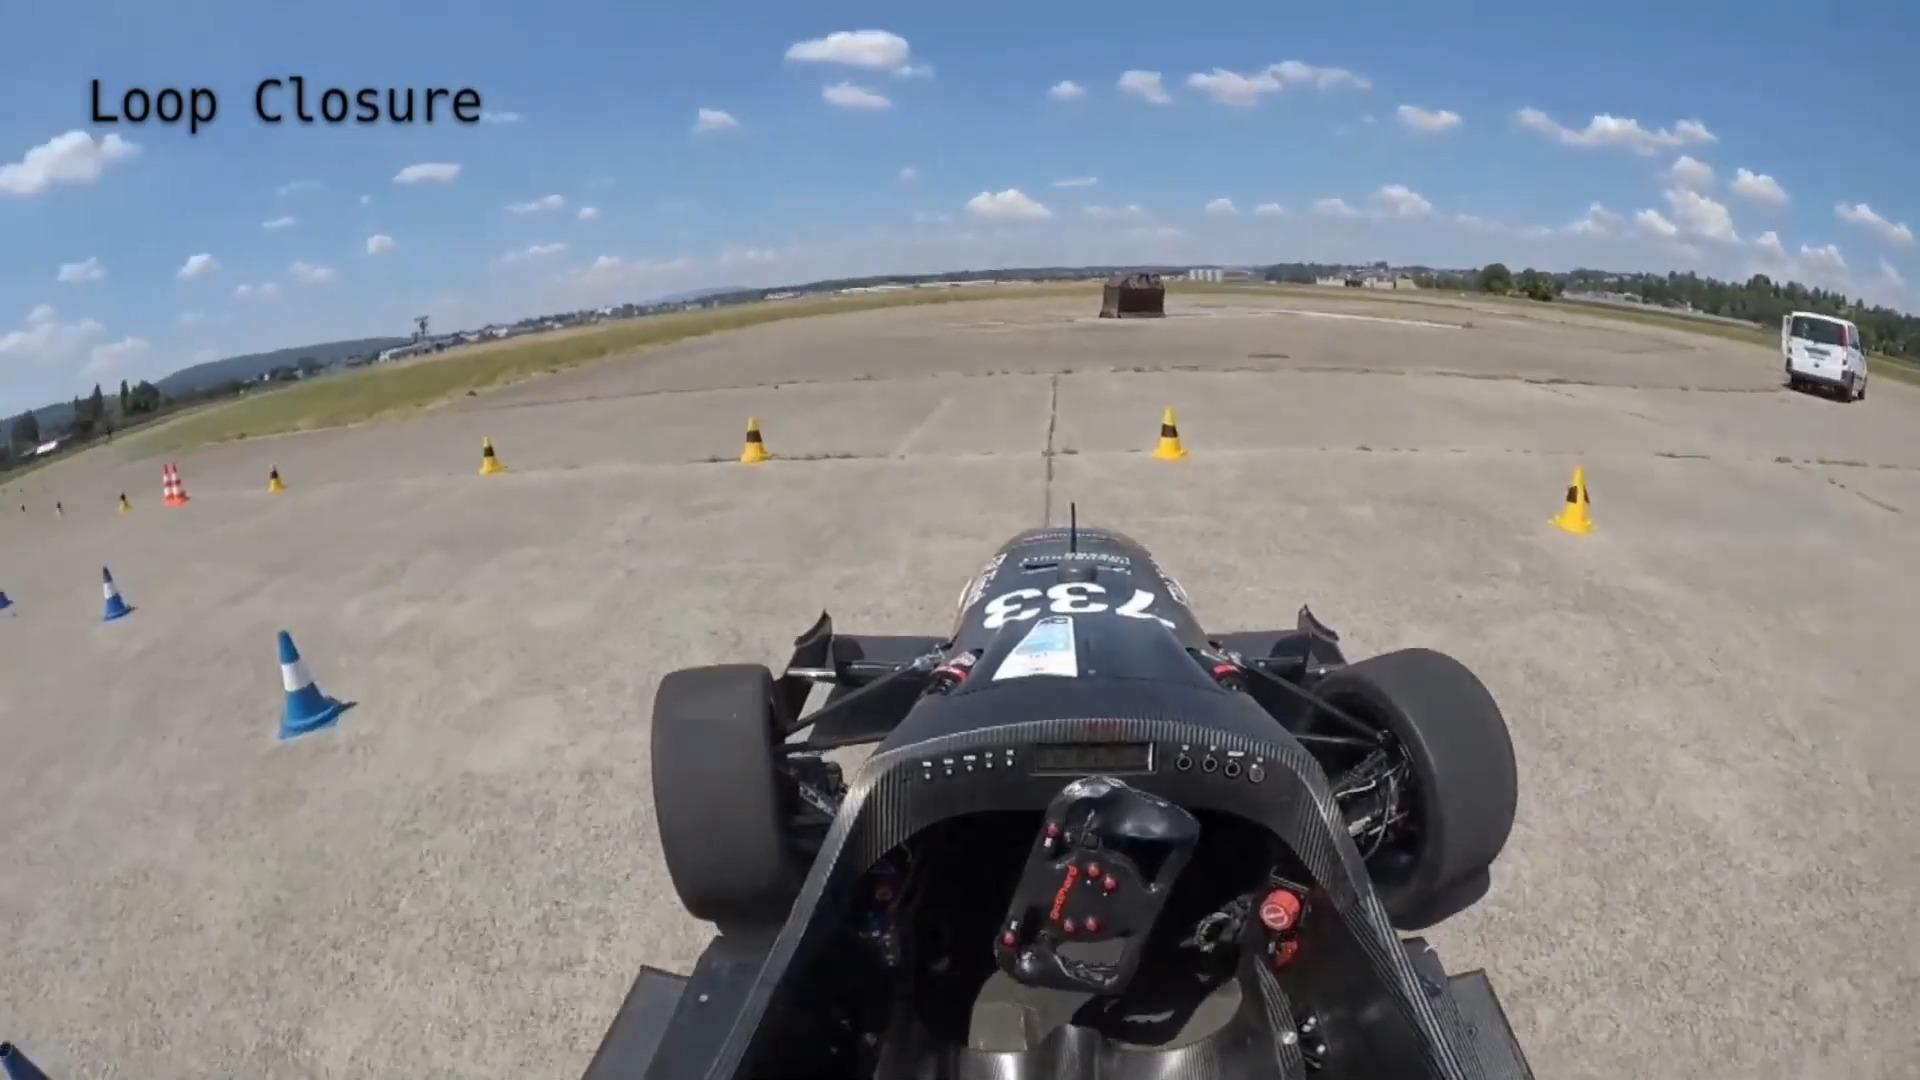blue_cone: (265, 629, 348, 744), (95, 563, 138, 624), (0, 579, 12, 611)
large_orange_cone: (170, 462, 189, 506), (158, 463, 175, 506)
yellow_cone: (1548, 464, 1601, 537), (1153, 404, 1193, 462), (737, 417, 773, 464), (476, 436, 505, 473), (266, 464, 286, 493)
